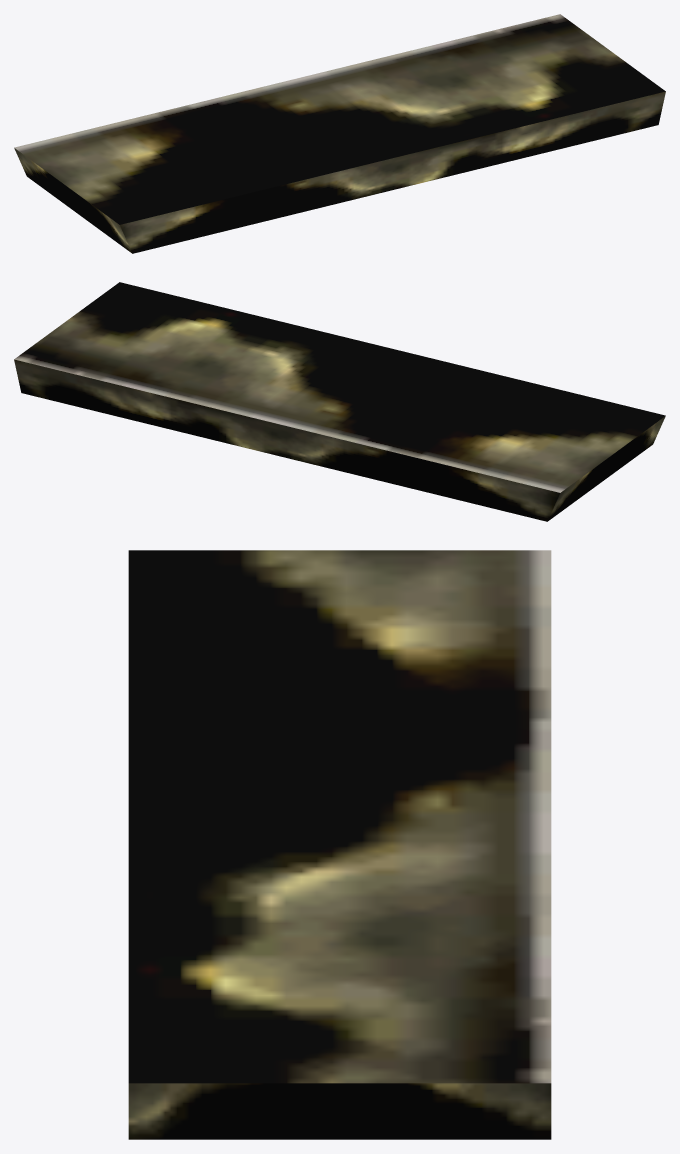
File: USA - Ground Vehicles - Tomahawk - Damage State 4 - avtomahawk_d4.glb
The picture shows the model from 3 angles, top to bottom: view 1: azimuth 30°, elevation 25°; view 2: azimuth 150°, elevation 25°; view 3: azimuth 270°, elevation 25°; orthographic projection. The views are drawn at different scales.
Parts seen in each view (by area): view 1: AVTOMAHAWK_D4; view 2: AVTOMAHAWK_D4; view 3: AVTOMAHAWK_D4.
Part boxes in pixels (x1=…): AVTOMAHAWK_D4: x1=14, y1=14, x2=665, y2=253; AVTOMAHAWK_D4: x1=14, y1=282, x2=665, y2=521; AVTOMAHAWK_D4: x1=128, y1=550, x2=551, y2=1139.
Size of the model in its own units: 17.55 by 0.9896 by 5.88.
1 material, 1 textured.
